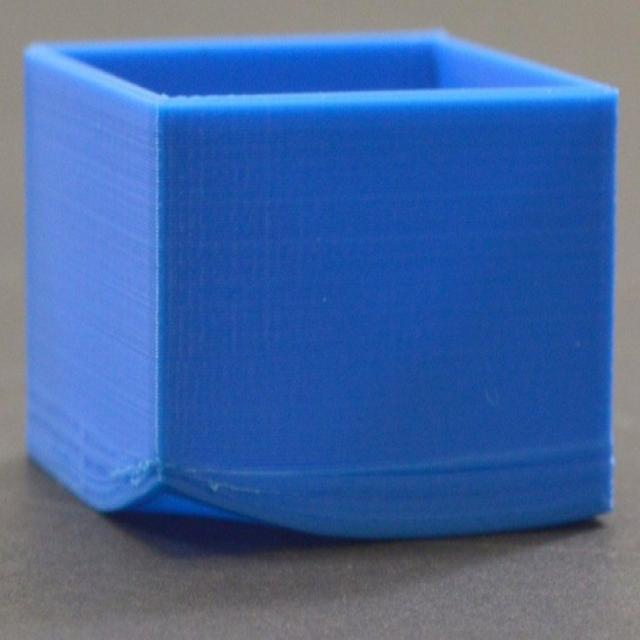cracks: (78, 440, 291, 535)
